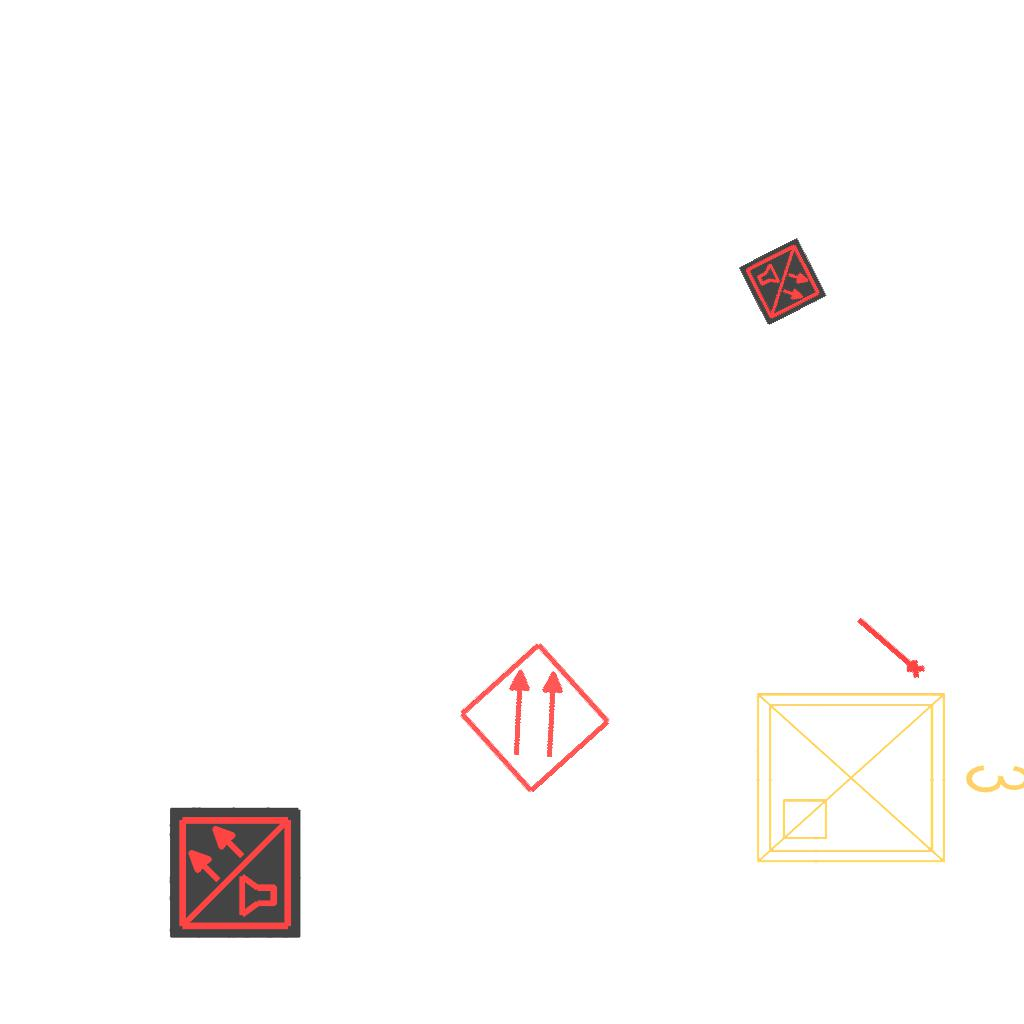ASR_Ansaugoeffnung: (848, 609, 930, 686)
Einbaudownlights_LED_Konferenzraeume: (742, 670, 1024, 878)
OKW_Multisensormelder_(Kombination_optischer_Rauch-Kahlenmonoxid_Waerme-Melder): (169, 806, 301, 938), (738, 237, 828, 327)
RMO_Rauchmelder_optischer: (454, 637, 615, 798)
